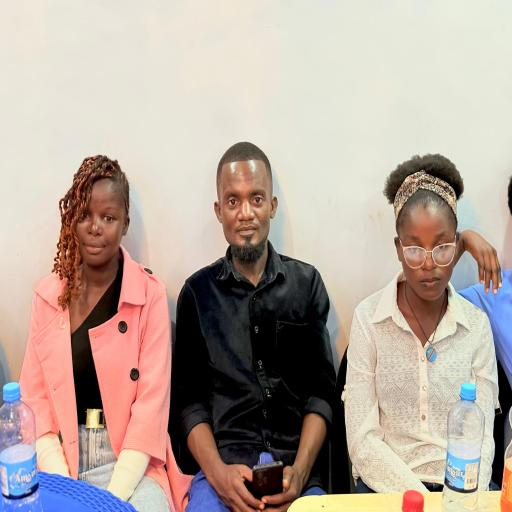MATTHIEU: (212, 140, 278, 266)
